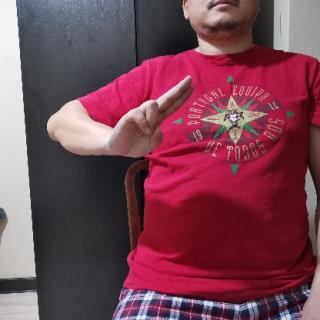TA: (106, 72, 200, 164)
